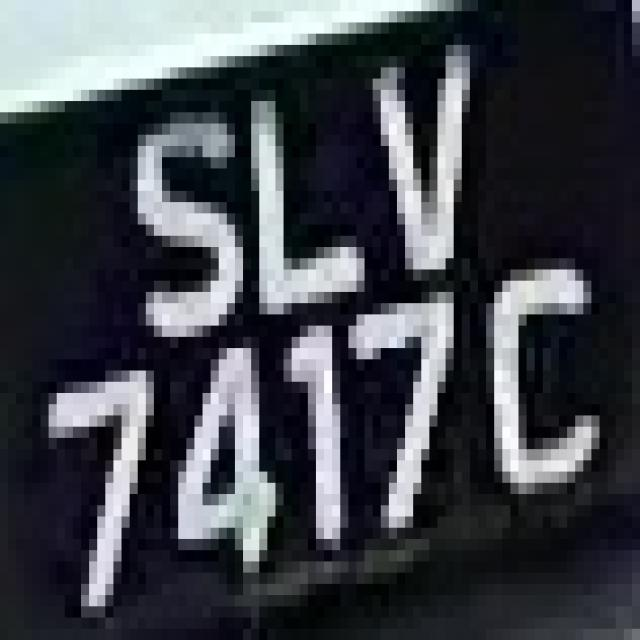1: (276, 314, 356, 562)
4: (154, 337, 283, 572)
7: (332, 269, 486, 539), (24, 348, 154, 618)
C: (478, 236, 608, 528)
L: (235, 78, 356, 326)
S: (113, 101, 243, 348)
V: (365, 23, 478, 303)
